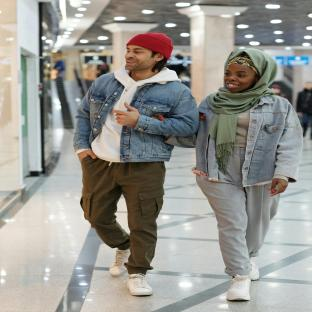Human: (167, 49, 302, 300), (73, 33, 198, 296)
